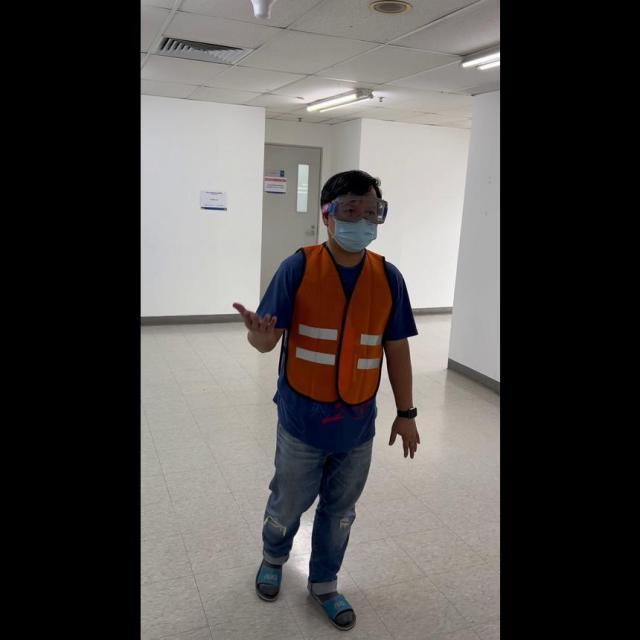bare_hand: (231, 295, 278, 350), (387, 407, 421, 460)
